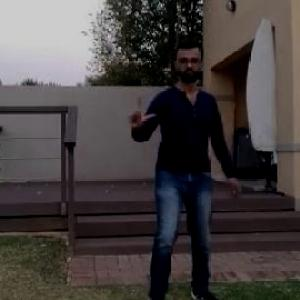land_hand: (129, 98, 164, 141)
